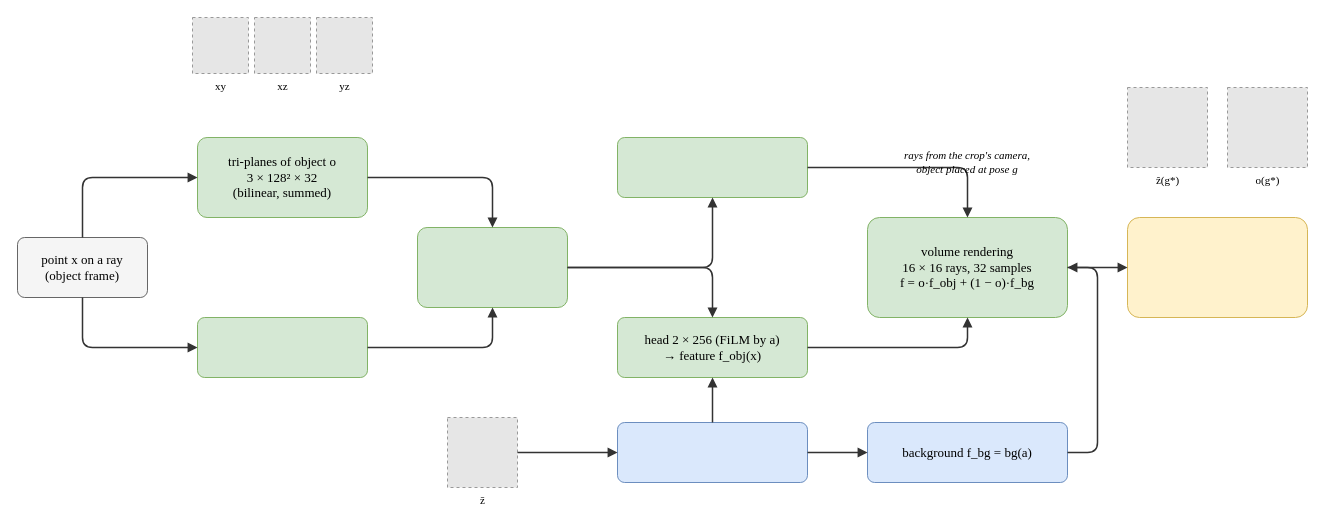
Some shapes in this 1325 by 525 pixel diagram are drawn without their labels. Grey dashed boxes stand in for pictures. The centre of each missing label's shape, as x and y in pixels:
"2 × 2 pooling → 8 × 8 tokens ẑ(g), o(g), h(g)" goes at pixel 1217 267.
"appearance a = GELU(Dense(μ, σ of z̄))" goes at pixel 712 452.
"density σ = softplus(ℓ(h) − 1) (0 outside the box)" goes at pixel 712 167.
"Fourier features of x (4 octaves)" goes at pixel 282 347.
"MLP 2 × 128, GELU → latent h(x)" goes at pixel 492 267.
